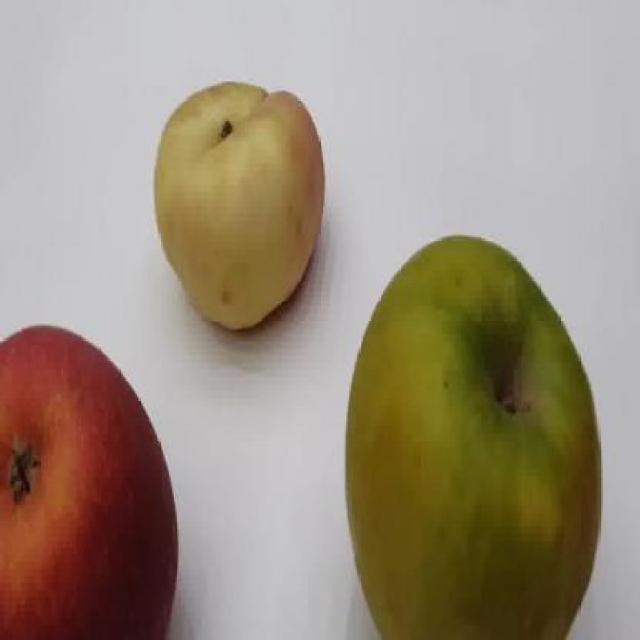Fresh Apple: (143, 84, 320, 345)
Rotten: (369, 241, 609, 640), (0, 340, 212, 636)
